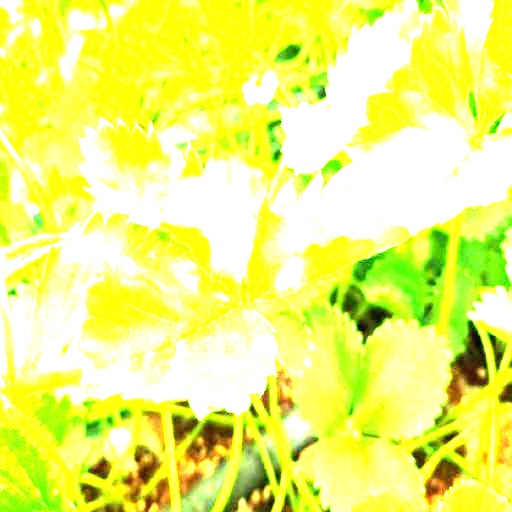Powdery Mildew Leaf: (244, 166, 415, 308)
